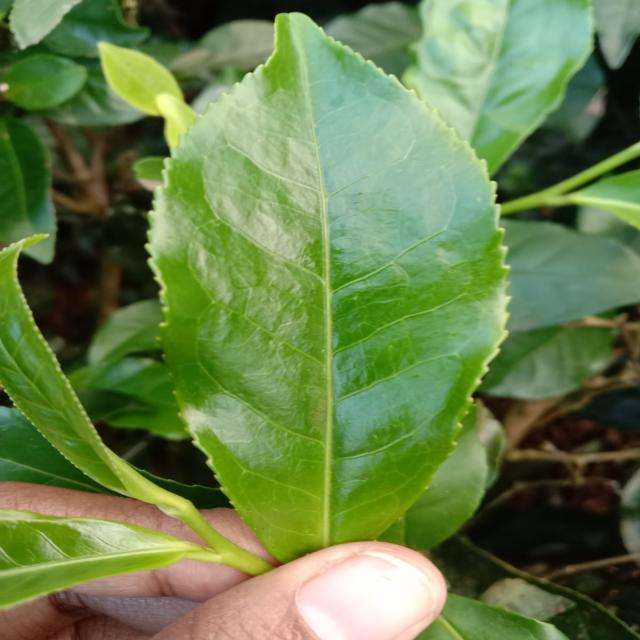Category C 4-7 days: (96, 2, 550, 565)
